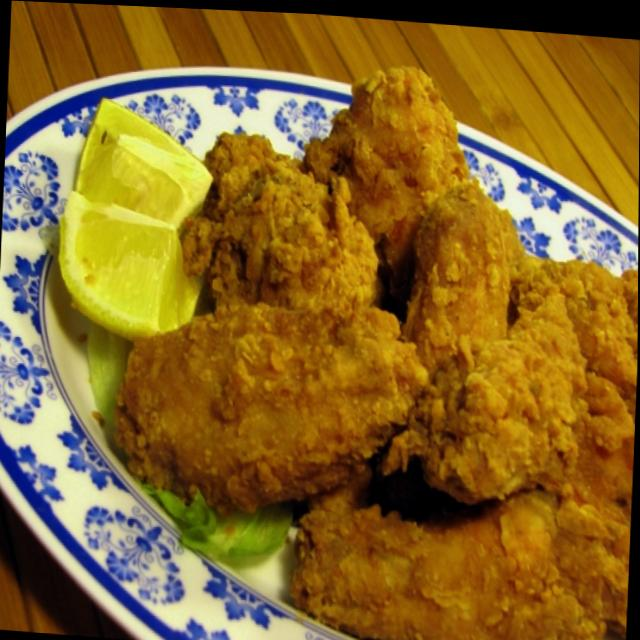鸡肉料理 含炸鸡: (63, 33, 640, 640)
